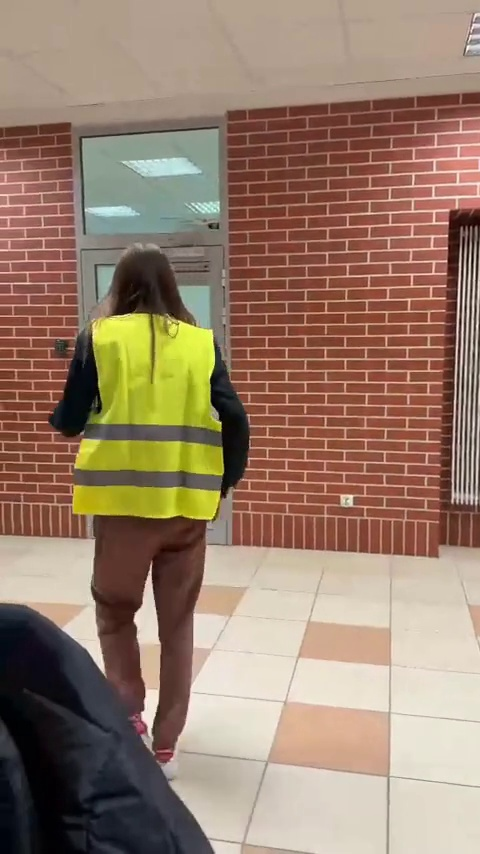vest: (51, 240, 262, 782)
